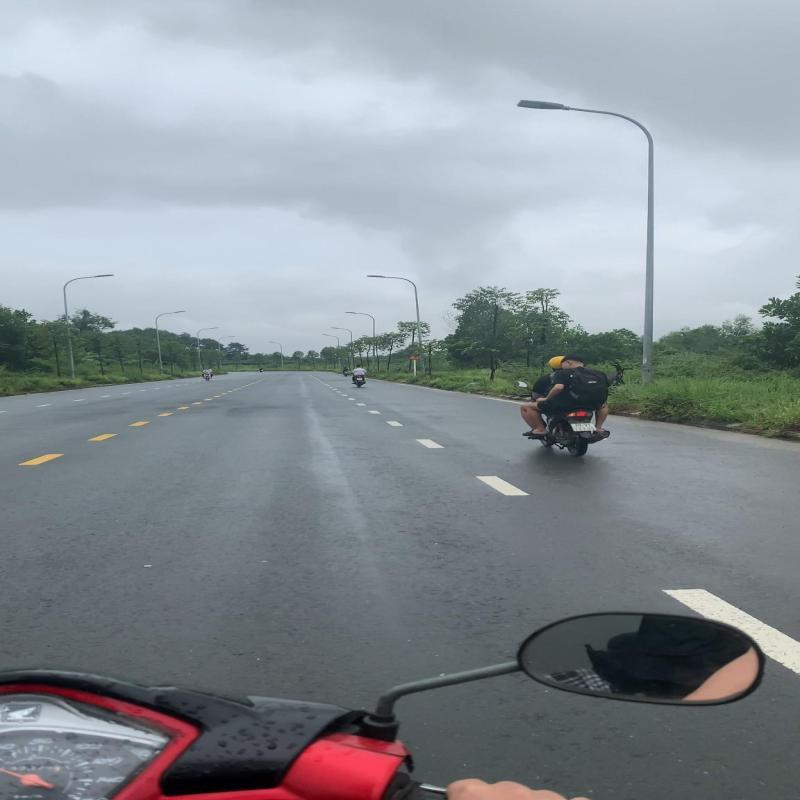helmet: (548, 355, 566, 370)
licenseplate: (568, 422, 599, 433)
motorcyclist: (512, 352, 614, 458)
nohelmet: (558, 355, 586, 368)
